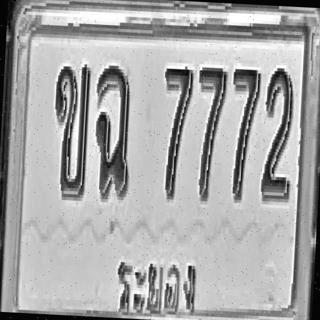A02: (50, 60, 92, 198)
A09: (91, 60, 135, 199)
N02: (260, 63, 296, 201)
N07: (192, 62, 228, 200), (158, 62, 193, 200), (227, 64, 261, 202)
P53: (111, 243, 200, 320)
